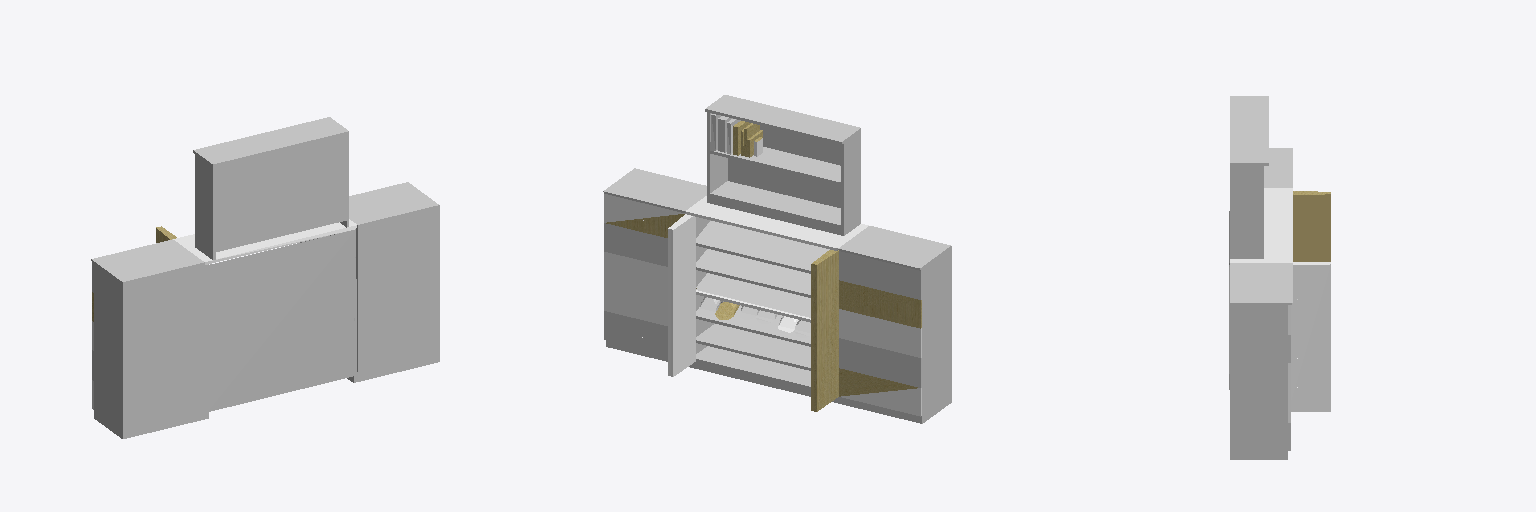
3 views of the same model, side by side, from view 1: azimuth 30°, elevation 25°; view 2: azimuth 150°, elevation 25°; view 3: azimuth 270°, elevation 25° (orthographic).
Visible parts, largest first — view 1: mesh8_mesh8-geometry, mesh3_mesh3-geometry; view 2: mesh8_mesh8-geometry, mesh6_mesh6-geometry, mesh1_mesh1-geometry, mesh3_mesh3-geometry; view 3: mesh8_mesh8-geometry, mesh6_mesh6-geometry, mesh3_mesh3-geometry, mesh1_mesh1-geometry.
Boxes of the visible parts, box(x1,y1,x2,y2) form: mesh8_mesh8-geometry: box(91, 117, 439, 438); mesh3_mesh3-geometry: box(92, 219, 356, 409); mesh8_mesh8-geometry: box(603, 95, 951, 423); mesh6_mesh6-geometry: box(604, 138, 921, 411); mesh1_mesh1-geometry: box(604, 121, 921, 337); mesh3_mesh3-geometry: box(604, 123, 921, 416); mesh8_mesh8-geometry: box(1229, 96, 1297, 459); mesh6_mesh6-geometry: box(1288, 191, 1330, 399); mesh3_mesh3-geometry: box(1229, 188, 1330, 422); mesh1_mesh1-geometry: box(1250, 192, 1292, 392).
Bounding box in the file's own units: 0.7762 × 0.5922 × 0.2166.
3 materials, 2 textured.